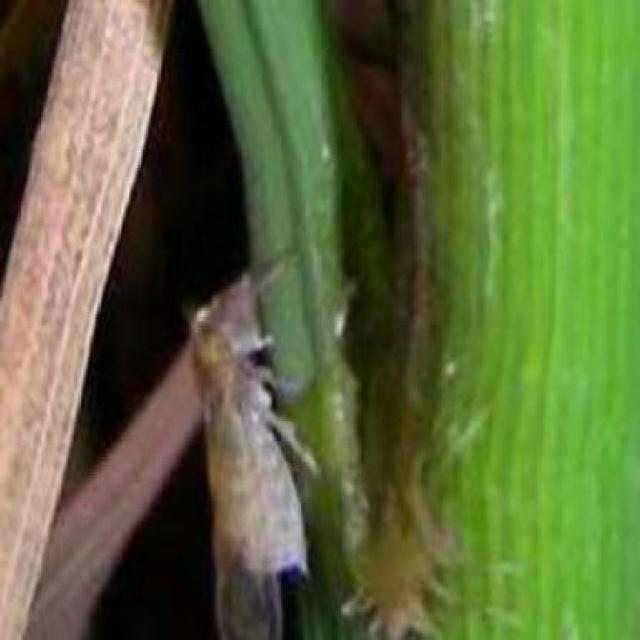brown-planthopper: (181, 295, 302, 640)
